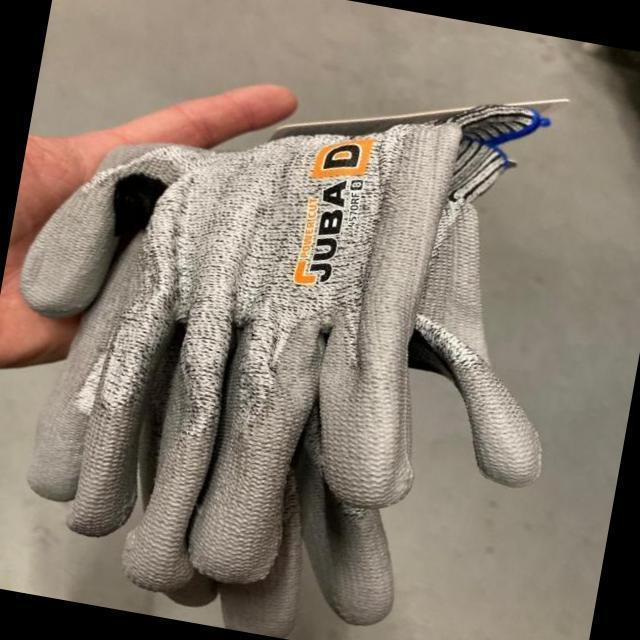Gloves: (20, 102, 546, 636)
